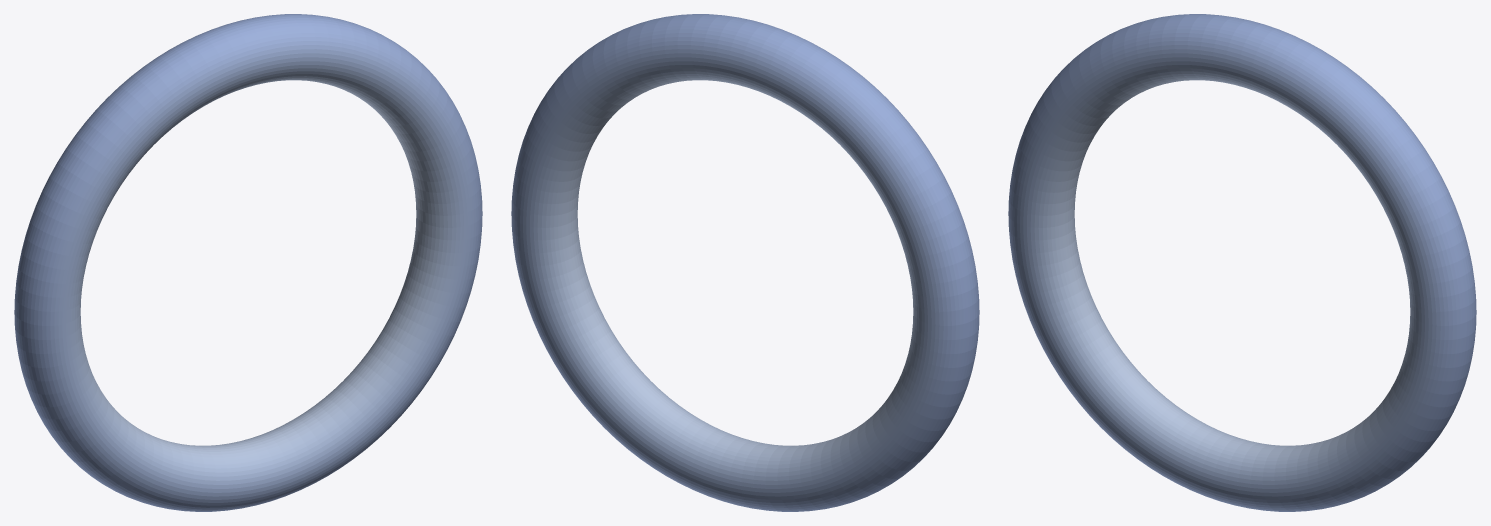
3 views of the same model, side by side, from view 1: azimuth 30°, elevation 25°; view 2: azimuth 150°, elevation 25°; view 3: azimuth 330°, elevation 25° (orthographic).
Visible parts, largest first — view 1: world; view 2: world; view 3: world.
Boxes of the visible parts, x1=… form: world: x1=14, y1=14, x2=482, y2=511; world: x1=511, y1=14, x2=979, y2=511; world: x1=1008, y1=14, x2=1476, y2=511.
Size of the model in its own units: 16 by 16 by 2.
